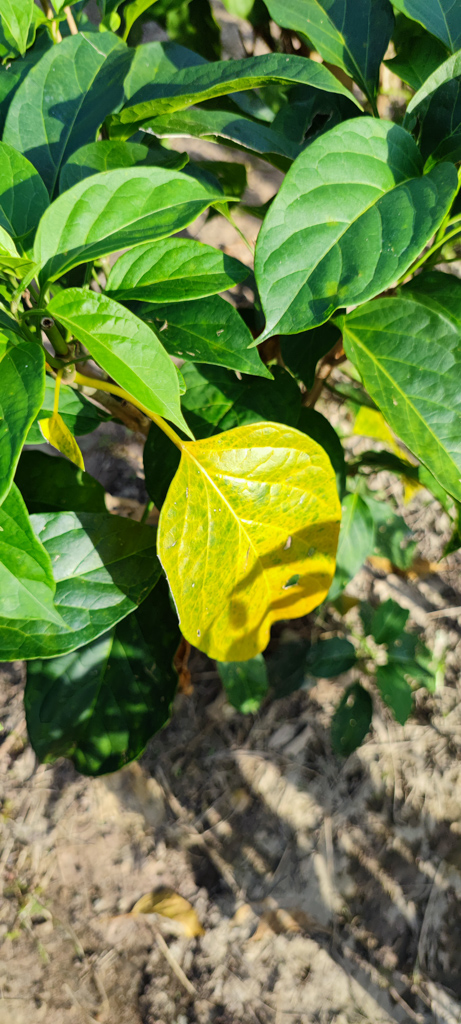Pepper yellow leaf: (149, 419, 343, 664), (347, 397, 423, 489), (37, 407, 88, 483)
